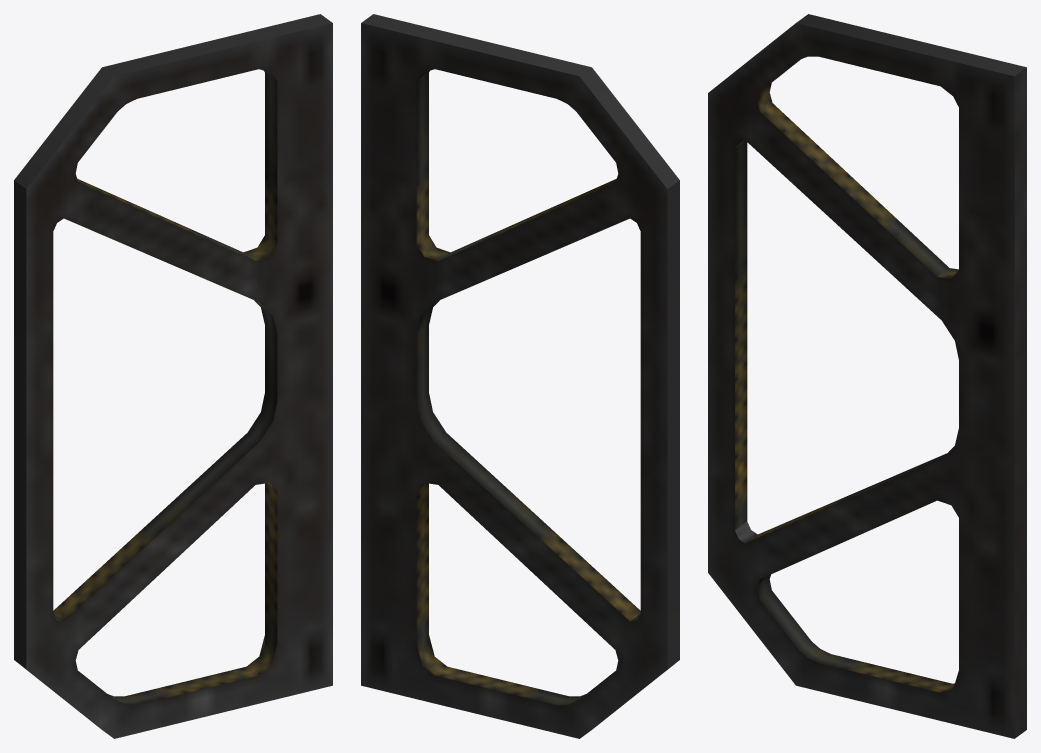
Rendered from Door_2_L.FBX.
The picture shows the model from 3 angles, left to right: view 1: azimuth 30°, elevation 25°; view 2: azimuth 150°, elevation 25°; view 3: azimuth 330°, elevation 25°; orthographic projection.
Parts seen in each view (by area): view 1: Door_2_L; view 2: Door_2_L; view 3: Door_2_L.
Part boxes in pixels (left/top/right/bottom): Door_2_L: left=14, top=14, right=332, bottom=738; Door_2_L: left=361, top=14, right=679, bottom=738; Door_2_L: left=708, top=14, right=1026, bottom=738.
Bounding box in the file's own units: 142 × 294 × 9.96.
